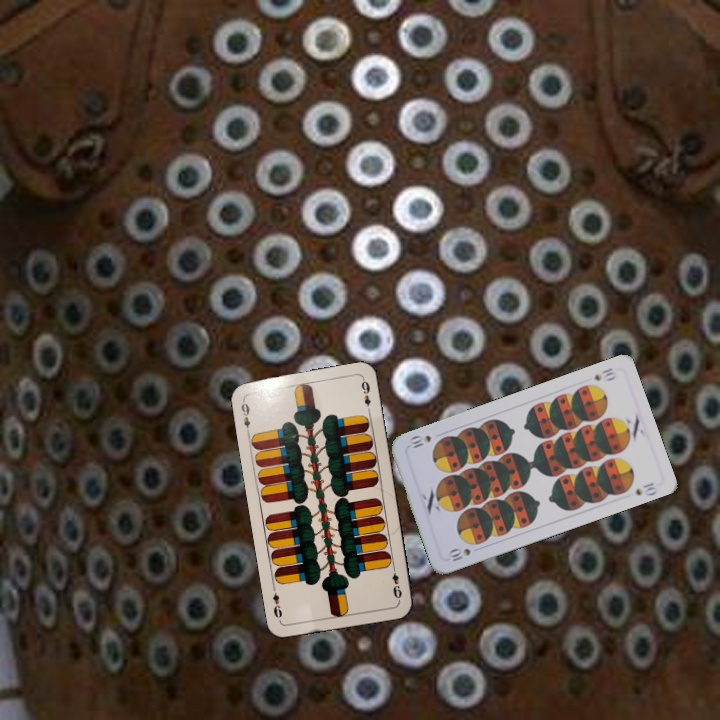E9: (388, 562, 404, 603), (237, 395, 253, 436)
S10: (444, 544, 473, 564), (590, 364, 619, 384)
